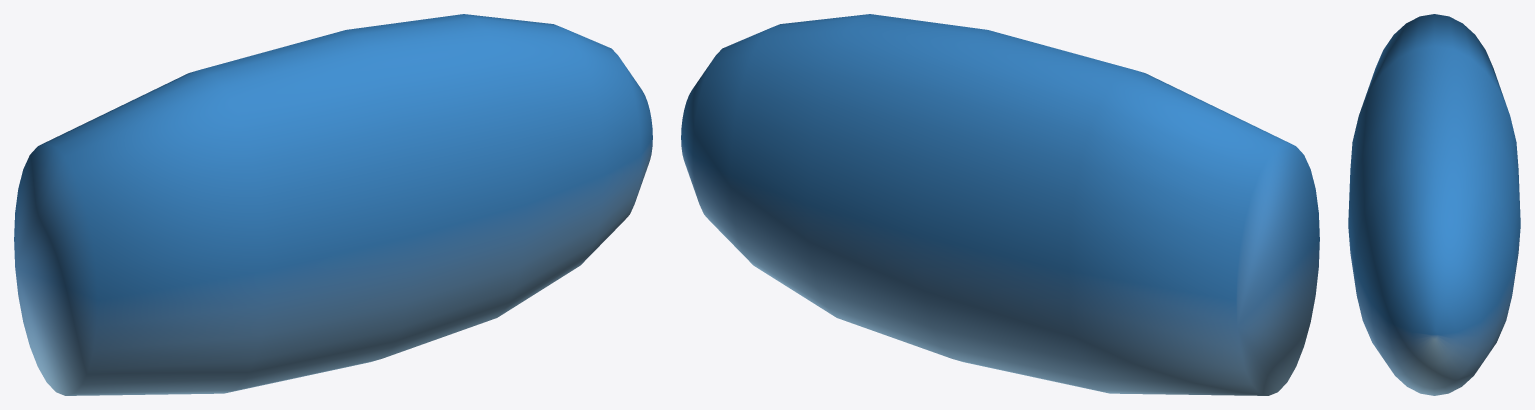
File: 2073_Whale_WhaleHeadBody.fbx
The picture shows the model from 3 angles, left to right: view 1: azimuth 30°, elevation 25°; view 2: azimuth 150°, elevation 25°; view 3: azimuth 270°, elevation 25°; orthographic projection. The views are drawn at different scales.
Visible parts, largest first — view 1: PART_WhaleHeadBody; view 2: PART_WhaleHeadBody; view 3: PART_WhaleHeadBody.
Boxes of the visible parts, x1,y1,x2,y2 form: PART_WhaleHeadBody: (14, 14, 652, 395); PART_WhaleHeadBody: (681, 14, 1319, 395); PART_WhaleHeadBody: (1348, 14, 1520, 395).
Size of the model in its own units: 302 by 158 by 97.96.
